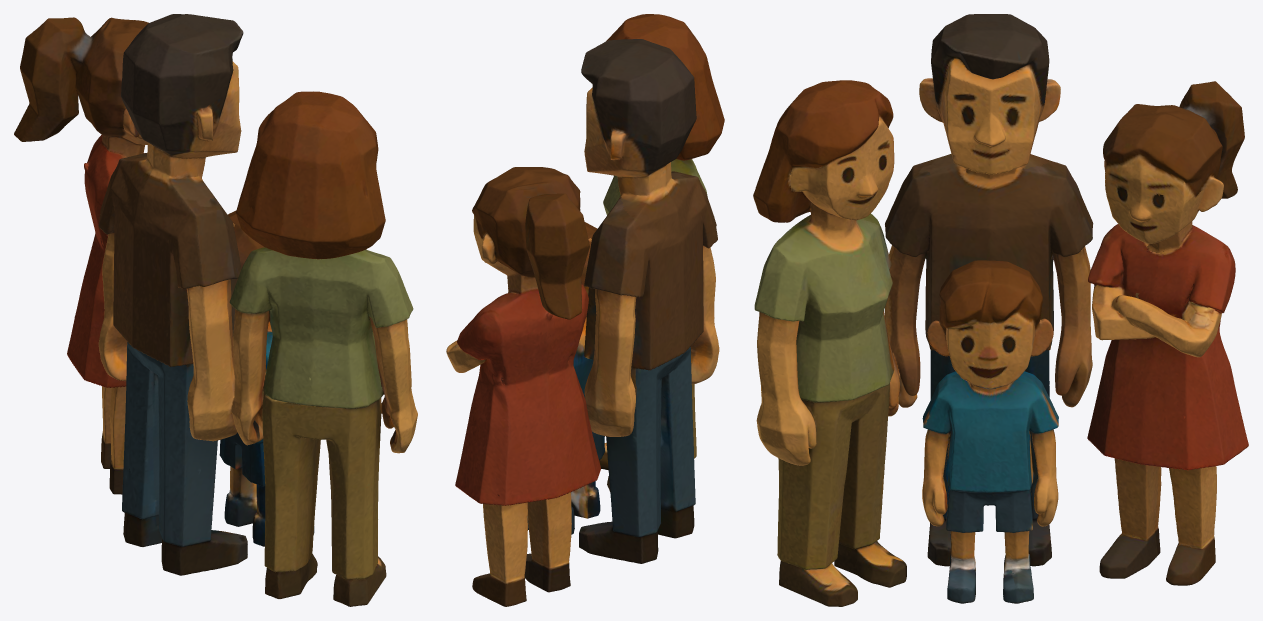
The model's file is Famaly.glb.
The picture shows the model from 3 angles, left to right: view 1: azimuth 30°, elevation 25°; view 2: azimuth 150°, elevation 25°; view 3: azimuth 270°, elevation 25°; orthographic projection. The views are drawn at different scales.
Parts seen in each view (by area): view 1: tripo_node_be6065b7; view 2: tripo_node_be6065b7; view 3: tripo_node_be6065b7.
Part boxes in pixels (x1,y1,x2,y2): tripo_node_be6065b7: (14, 14, 417, 606); tripo_node_be6065b7: (446, 14, 724, 606); tripo_node_be6065b7: (753, 14, 1248, 606).
Size of the model in its own units: 0.3677 by 1 by 0.8586.
Materials: 1 (1 with a texture image).
